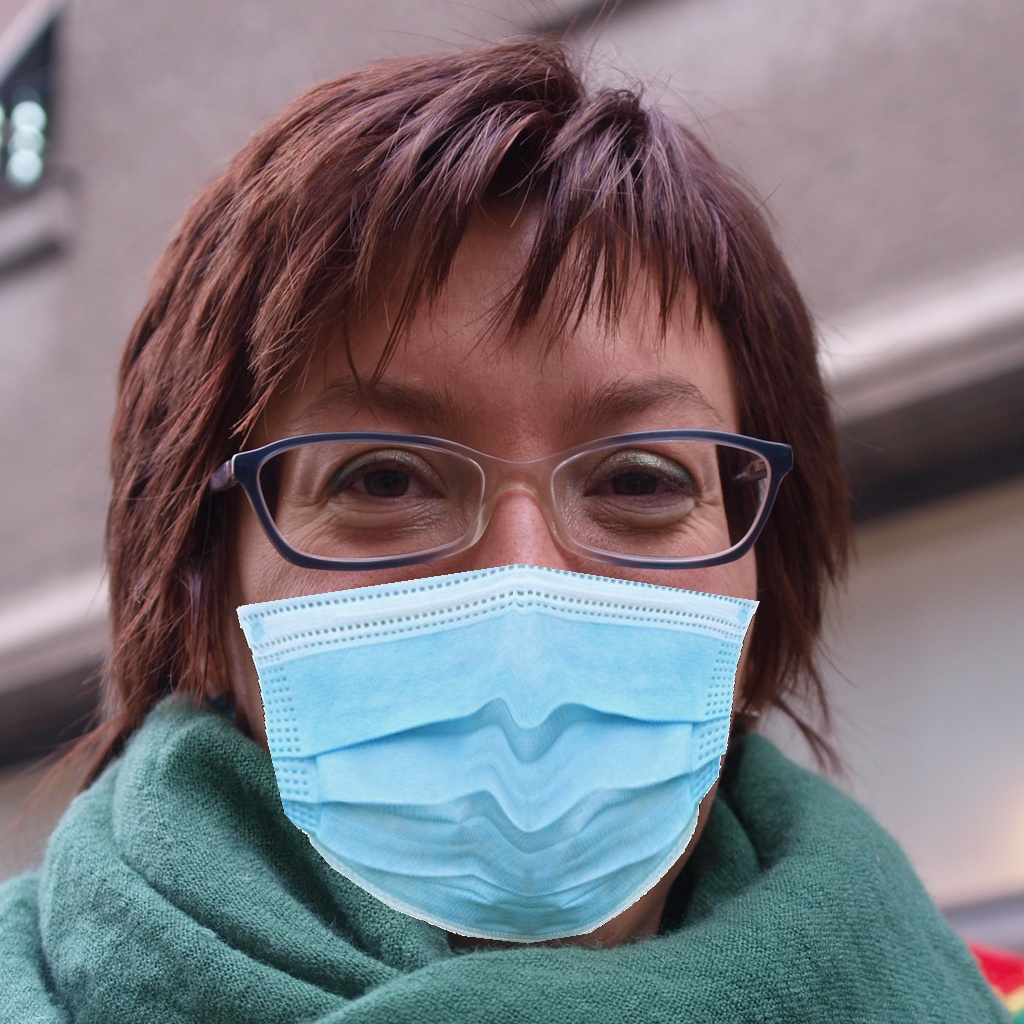Mask: (229, 353, 760, 943)
